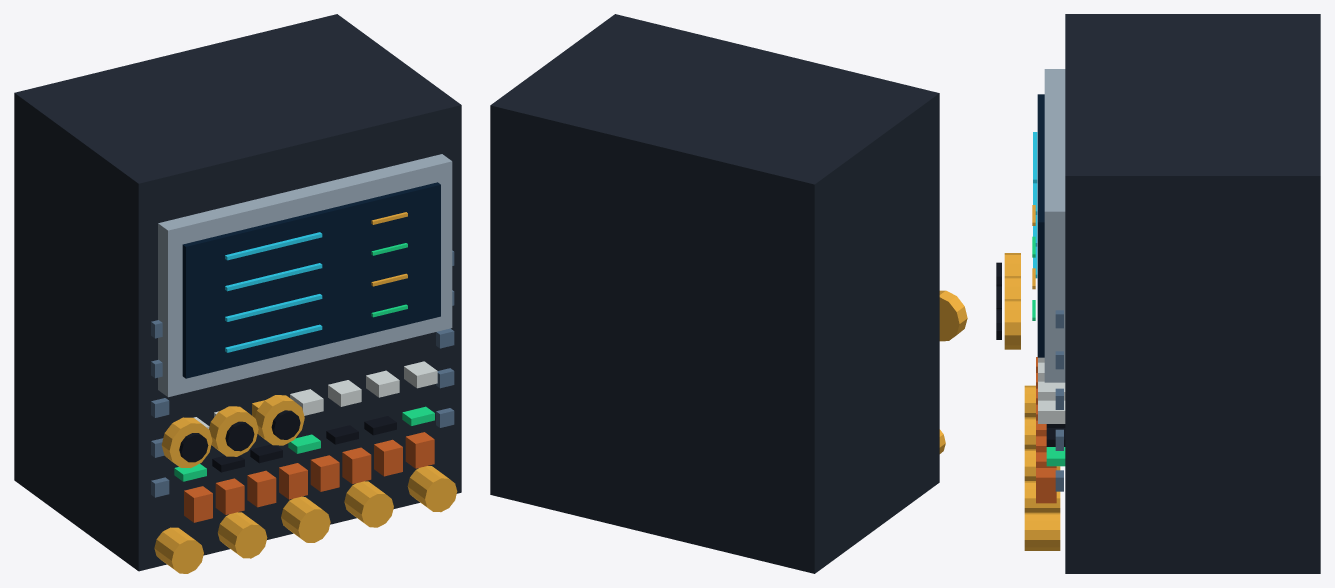
The model's file is 78_L86_HardwareInterlockDiagnosticRack.fbx.
3 renders of one model, left to right at view 1: azimuth 30°, elevation 25°; view 2: azimuth 150°, elevation 25°; view 3: azimuth 270°, elevation 25°, orthographic. The views are drawn at different scales.
Parts seen in each view (by area): view 1: L86_HardwareInterlockDiagnosticRack, L86_HardwareInterlockDiagnosticRack_Part_0010, L86_HardwareInterlockDiagnosticRack_Part_0014, L86_HardwareInterlockDiagnosticRack_Part_0012, L86_HardwareInterlockDiagnosticRack_Part_0011, L86_HardwareInterlockDiagnosticRack_Part_0015, L86_HardwareInterlockDiagnosticRack_Part_0013; view 2: L86_HardwareInterlockDiagnosticRack, L86_HardwareInterlockDiagnosticRack_Part_0010; view 3: L86_HardwareInterlockDiagnosticRack, L86_HardwareInterlockDiagnosticRack_Part_0014.
Boxes of the visible parts, x1,y1,x2,y2 form: L86_HardwareInterlockDiagnosticRack: [14, 14, 461, 573]; L86_HardwareInterlockDiagnosticRack_Part_0010: [161, 417, 212, 468]; L86_HardwareInterlockDiagnosticRack_Part_0014: [255, 395, 304, 445]; L86_HardwareInterlockDiagnosticRack_Part_0012: [209, 406, 258, 456]; L86_HardwareInterlockDiagnosticRack_Part_0011: [179, 433, 208, 462]; L86_HardwareInterlockDiagnosticRack_Part_0015: [271, 410, 300, 439]; L86_HardwareInterlockDiagnosticRack_Part_0013: [225, 421, 254, 451]; L86_HardwareInterlockDiagnosticRack: [490, 14, 945, 573]; L86_HardwareInterlockDiagnosticRack_Part_0010: [939, 290, 967, 341]; L86_HardwareInterlockDiagnosticRack: [1024, 14, 1320, 573]; L86_HardwareInterlockDiagnosticRack_Part_0014: [1004, 299, 1020, 349].
Bounding box in the file's own units: 97.92 × 112 × 82.84.
